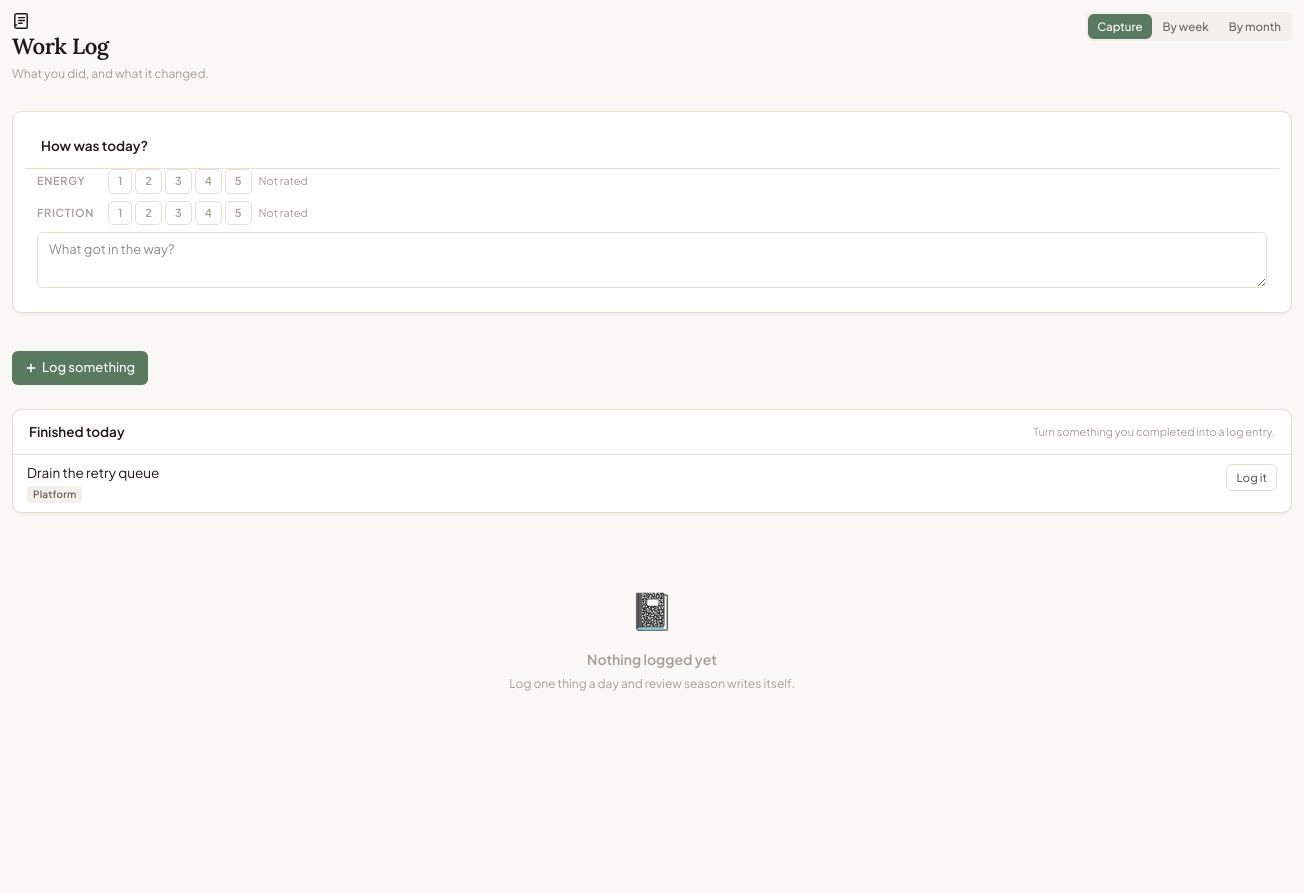
it: WorkLogView capture tab › prefills the form from a promoted task
Click the button "Log it": (1252, 478) x1=1226 y1=464 x2=1277 y2=491
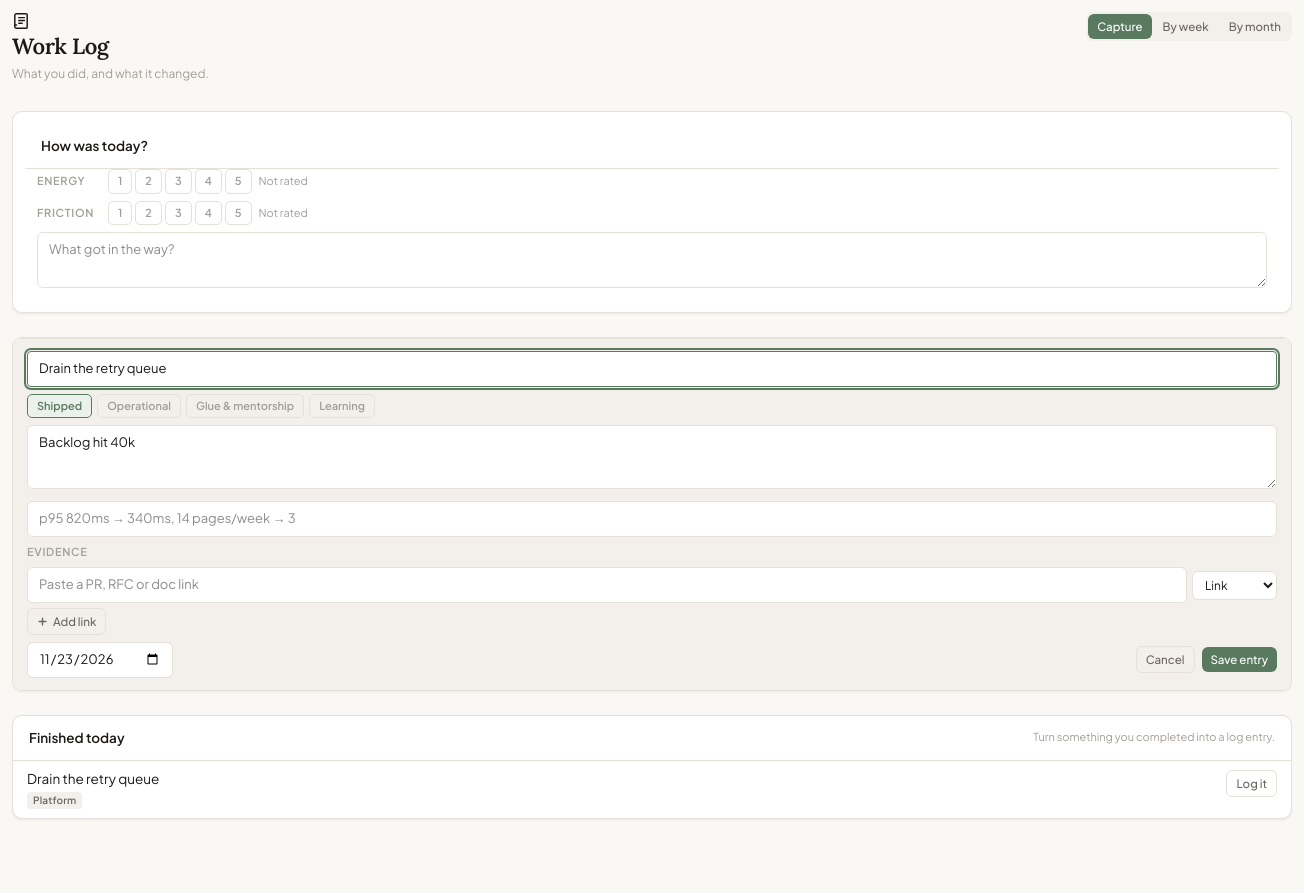
Expected: the field with placeholder "What did you do?" holds "Drain the retry queue", x1=27 y1=351 x2=1277 y2=387
Expected: the text box with placeholder "What was broken, or why it mattered" holds "Backlog hit 40k", x1=27 y1=425 x2=1277 y2=489
